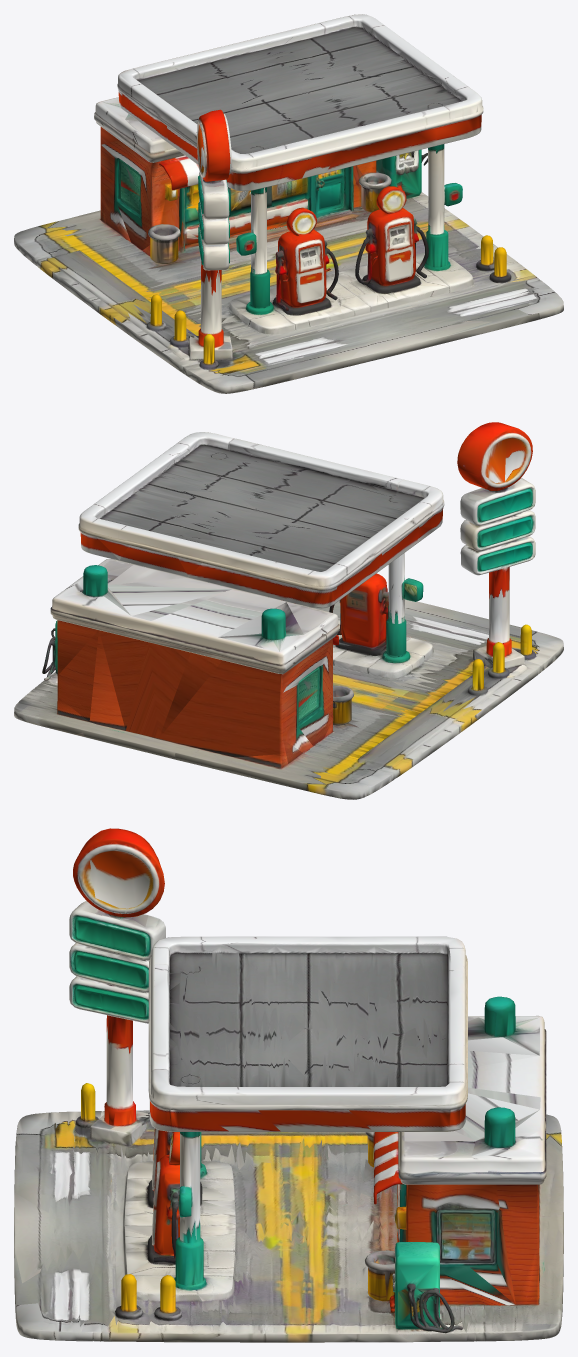
File: station.glb
3 views of the same model, one above another, from view 1: azimuth 30°, elevation 25°; view 2: azimuth 150°, elevation 25°; view 3: azimuth 270°, elevation 25° (orthographic). The views are drawn at different scales.
Parts seen in each view (by area): view 1: Mesh_0; view 2: Mesh_0; view 3: Mesh_0.
Part boxes in pixels (left/top/right/bottom): Mesh_0: left=14, top=14, right=563, bottom=393; Mesh_0: left=14, top=422, right=563, bottom=799; Mesh_0: left=14, top=828, right=563, bottom=1342.
Bounding box in the file's own units: 1.88 × 1.18 × 1.9.
Materials: 1 (1 with a texture image).
